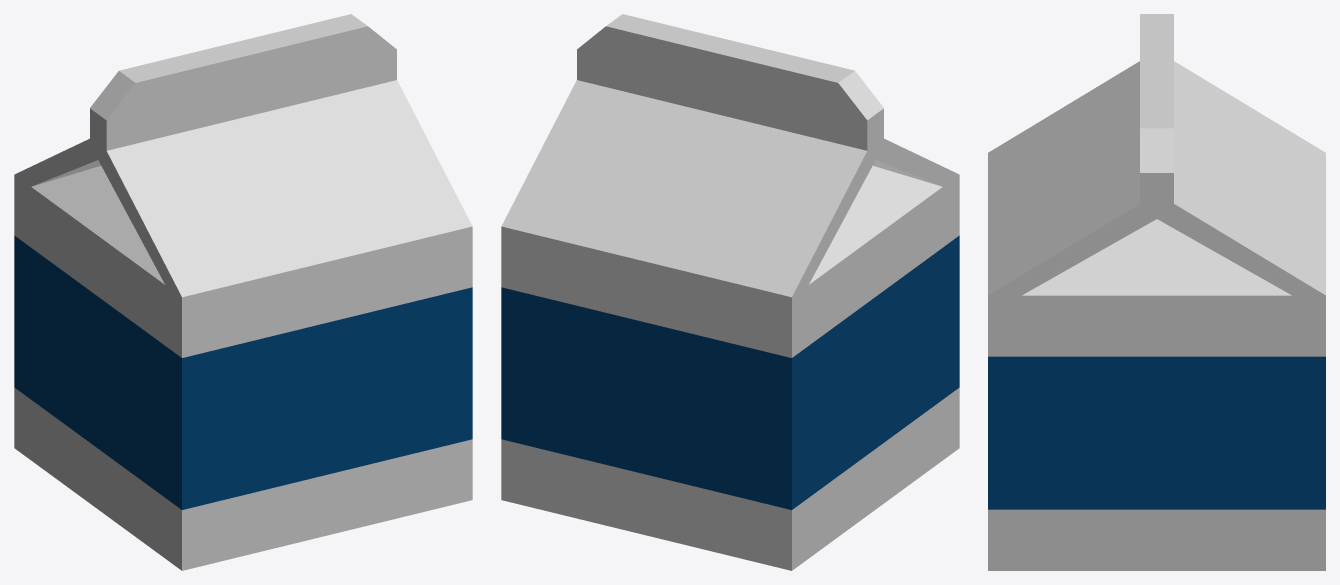
Rendered from Milk_Pint.fbx.
3 renders of one model, left to right at view 1: azimuth 30°, elevation 25°; view 2: azimuth 150°, elevation 25°; view 3: azimuth 270°, elevation 25°, orthographic.
Parts seen in each view (by area): view 1: Milk_Pint_4; view 2: Milk_Pint_4; view 3: Milk_Pint_4.
Boxes of the visible parts, x1,y1,x2,y2 form: Milk_Pint_4: (14, 14, 472, 570); Milk_Pint_4: (501, 14, 959, 570); Milk_Pint_4: (988, 14, 1325, 570).
Bounding box in the file's own units: 100 × 140 × 100.
